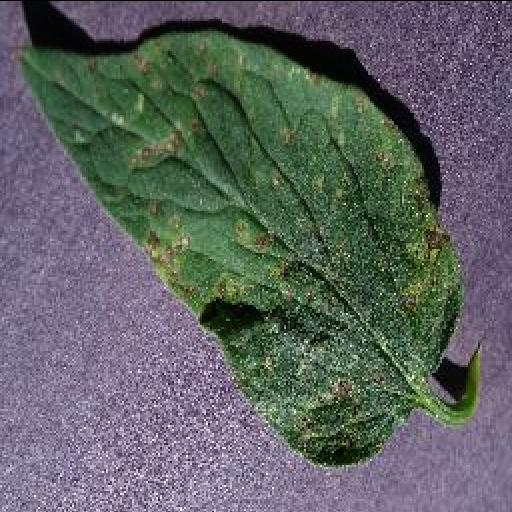disease_tomato: (14, 29, 460, 466)
